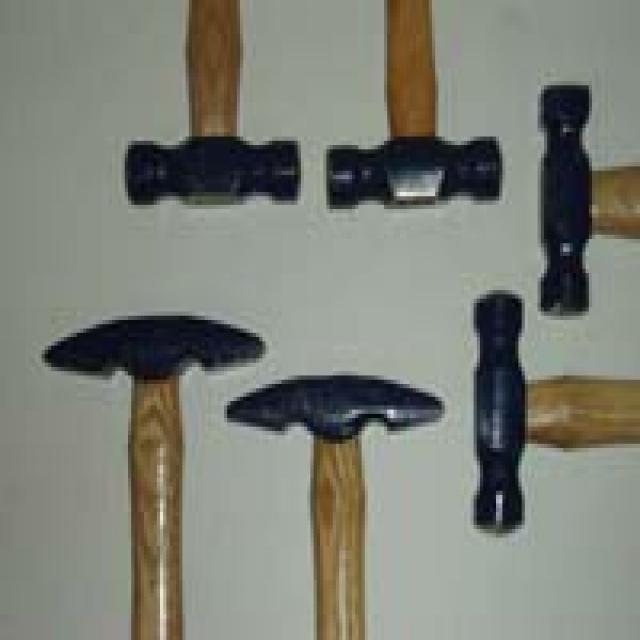hammer: (32, 303, 272, 640), (226, 365, 447, 640), (458, 287, 640, 548), (320, 0, 513, 215), (119, 0, 307, 215), (531, 78, 640, 329)
